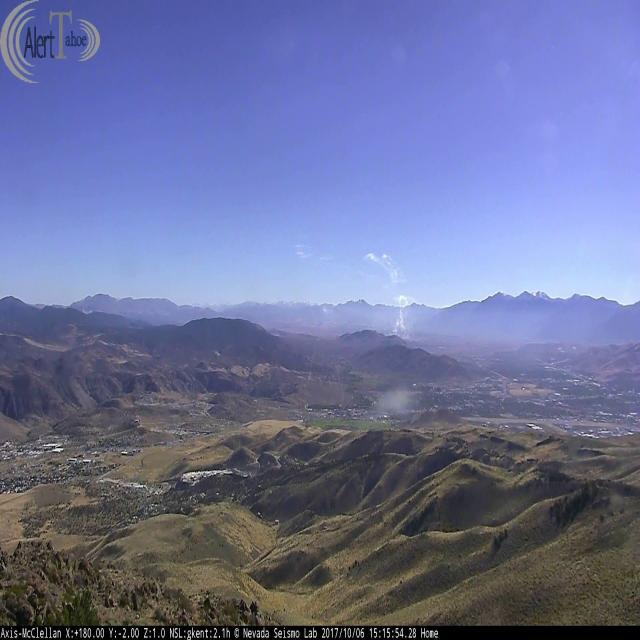smoke: (294, 242, 415, 341)
